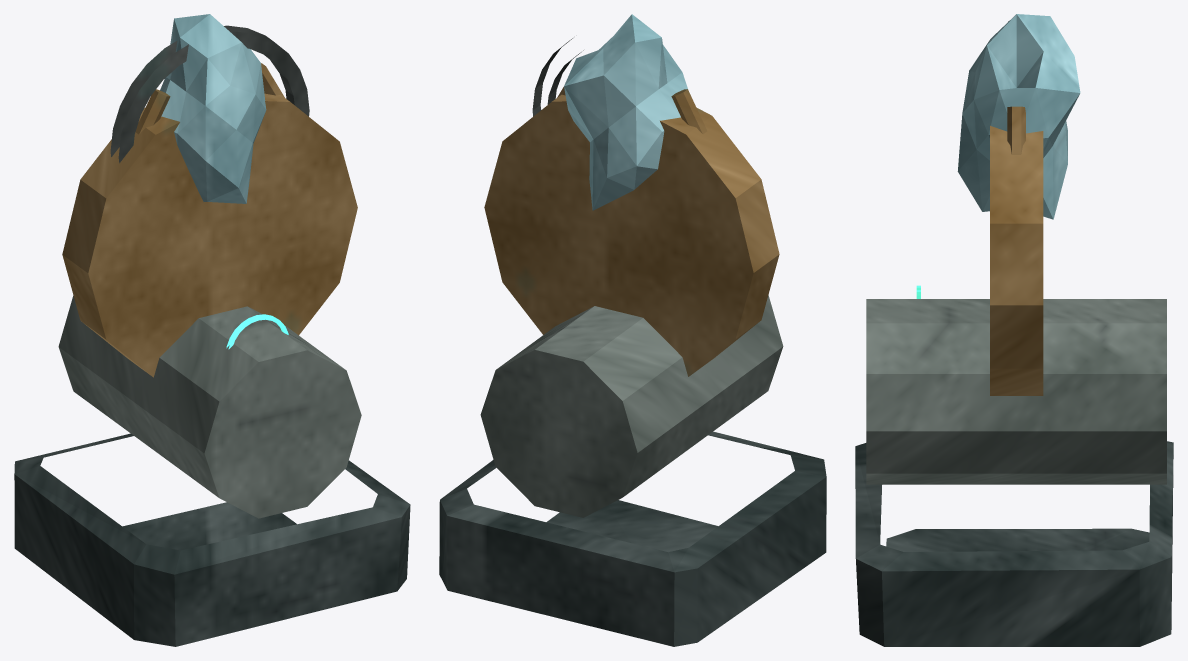
File: 0586_relic_pedestal_11.glb
3 renders of one model, left to right at view 1: azimuth 30°, elevation 25°; view 2: azimuth 150°, elevation 25°; view 3: azimuth 270°, elevation 25°, orthographic. The views are drawn at different scales.
Parts seen in each view (by area): view 1: brass, stone_dark, stone, ice, iron; view 2: brass, stone_dark, stone, ice, iron; view 3: stone, stone_dark, brass, ice.
Part boxes in pixels (left/top/right/bottom): brass: left=62, top=63, right=357, bottom=377; stone_dark: left=14, top=433, right=410, bottom=646; stone: left=58, top=295, right=361, bottom=518; ice: left=160, top=14, right=266, bottom=203; iron: left=110, top=25, right=309, bottom=163; brass: left=484, top=87, right=779, bottom=376; stone_dark: left=439, top=431, right=826, bottom=646; stone: left=480, top=295, right=783, bottom=517; ice: left=564, top=14, right=687, bottom=210; iron: left=532, top=38, right=583, bottom=116; stone: left=866, top=299, right=1166, bottom=484; stone_dark: left=855, top=441, right=1173, bottom=646; brass: left=990, top=106, right=1043, bottom=395; ice: left=957, top=14, right=1080, bottom=219.
Size of the model in its own units: 0.9627 by 1.89 by 0.9536.
6 materials, 6 textured.
